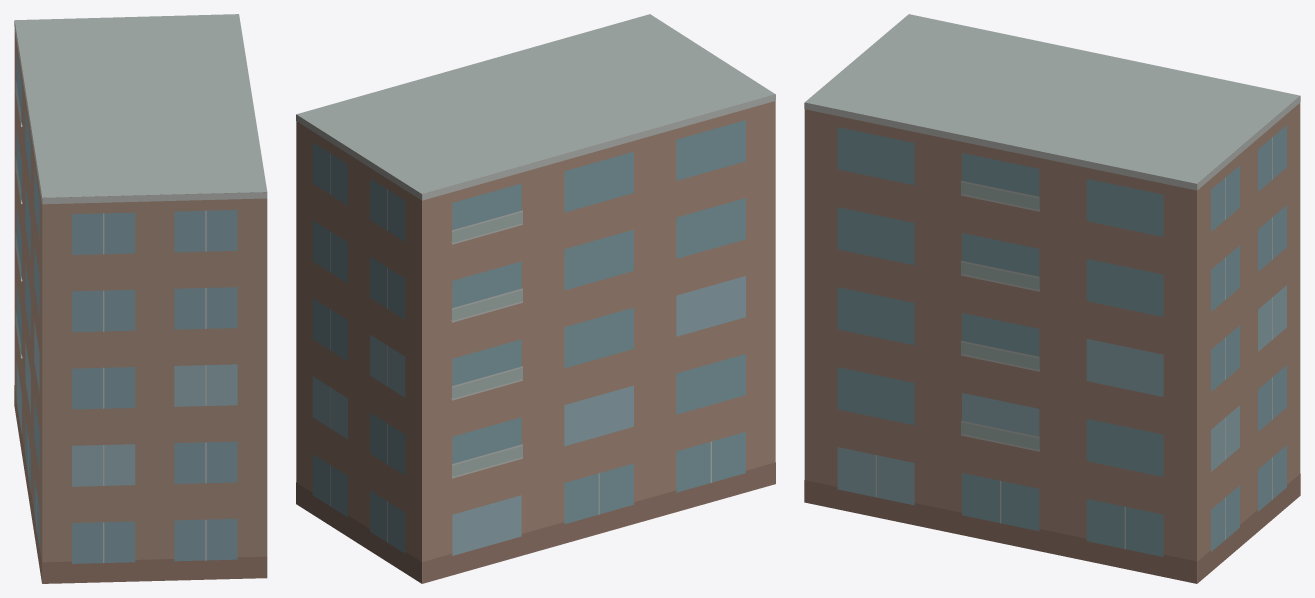
Rendered from survey-upis-32883561.glb.
3 renders of one model, left to right at view 1: azimuth 30°, elevation 25°; view 2: azimuth 150°, elevation 25°; view 3: azimuth 270°, elevation 25°, orthographic. The views are drawn at different scales.
Visible parts, largest first — view 1: survey-upis-32883561.tmp; view 2: survey-upis-32883561.tmp; view 3: survey-upis-32883561.tmp.
Part boxes in pixels (x1,y1,x2,y2): survey-upis-32883561.tmp: [14, 14, 267, 583]; survey-upis-32883561.tmp: [296, 14, 775, 583]; survey-upis-32883561.tmp: [804, 14, 1300, 583].
Size of the model in its own units: 13.26 by 14.55 by 16.36.
